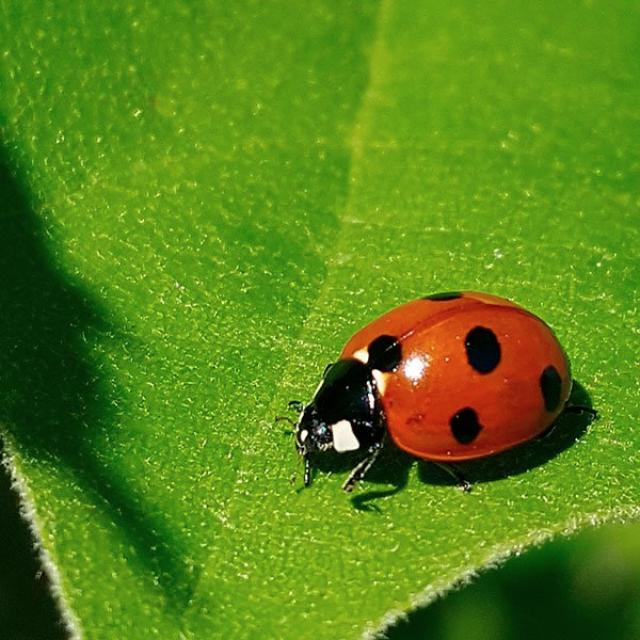ladybug: (297, 292, 573, 490)
